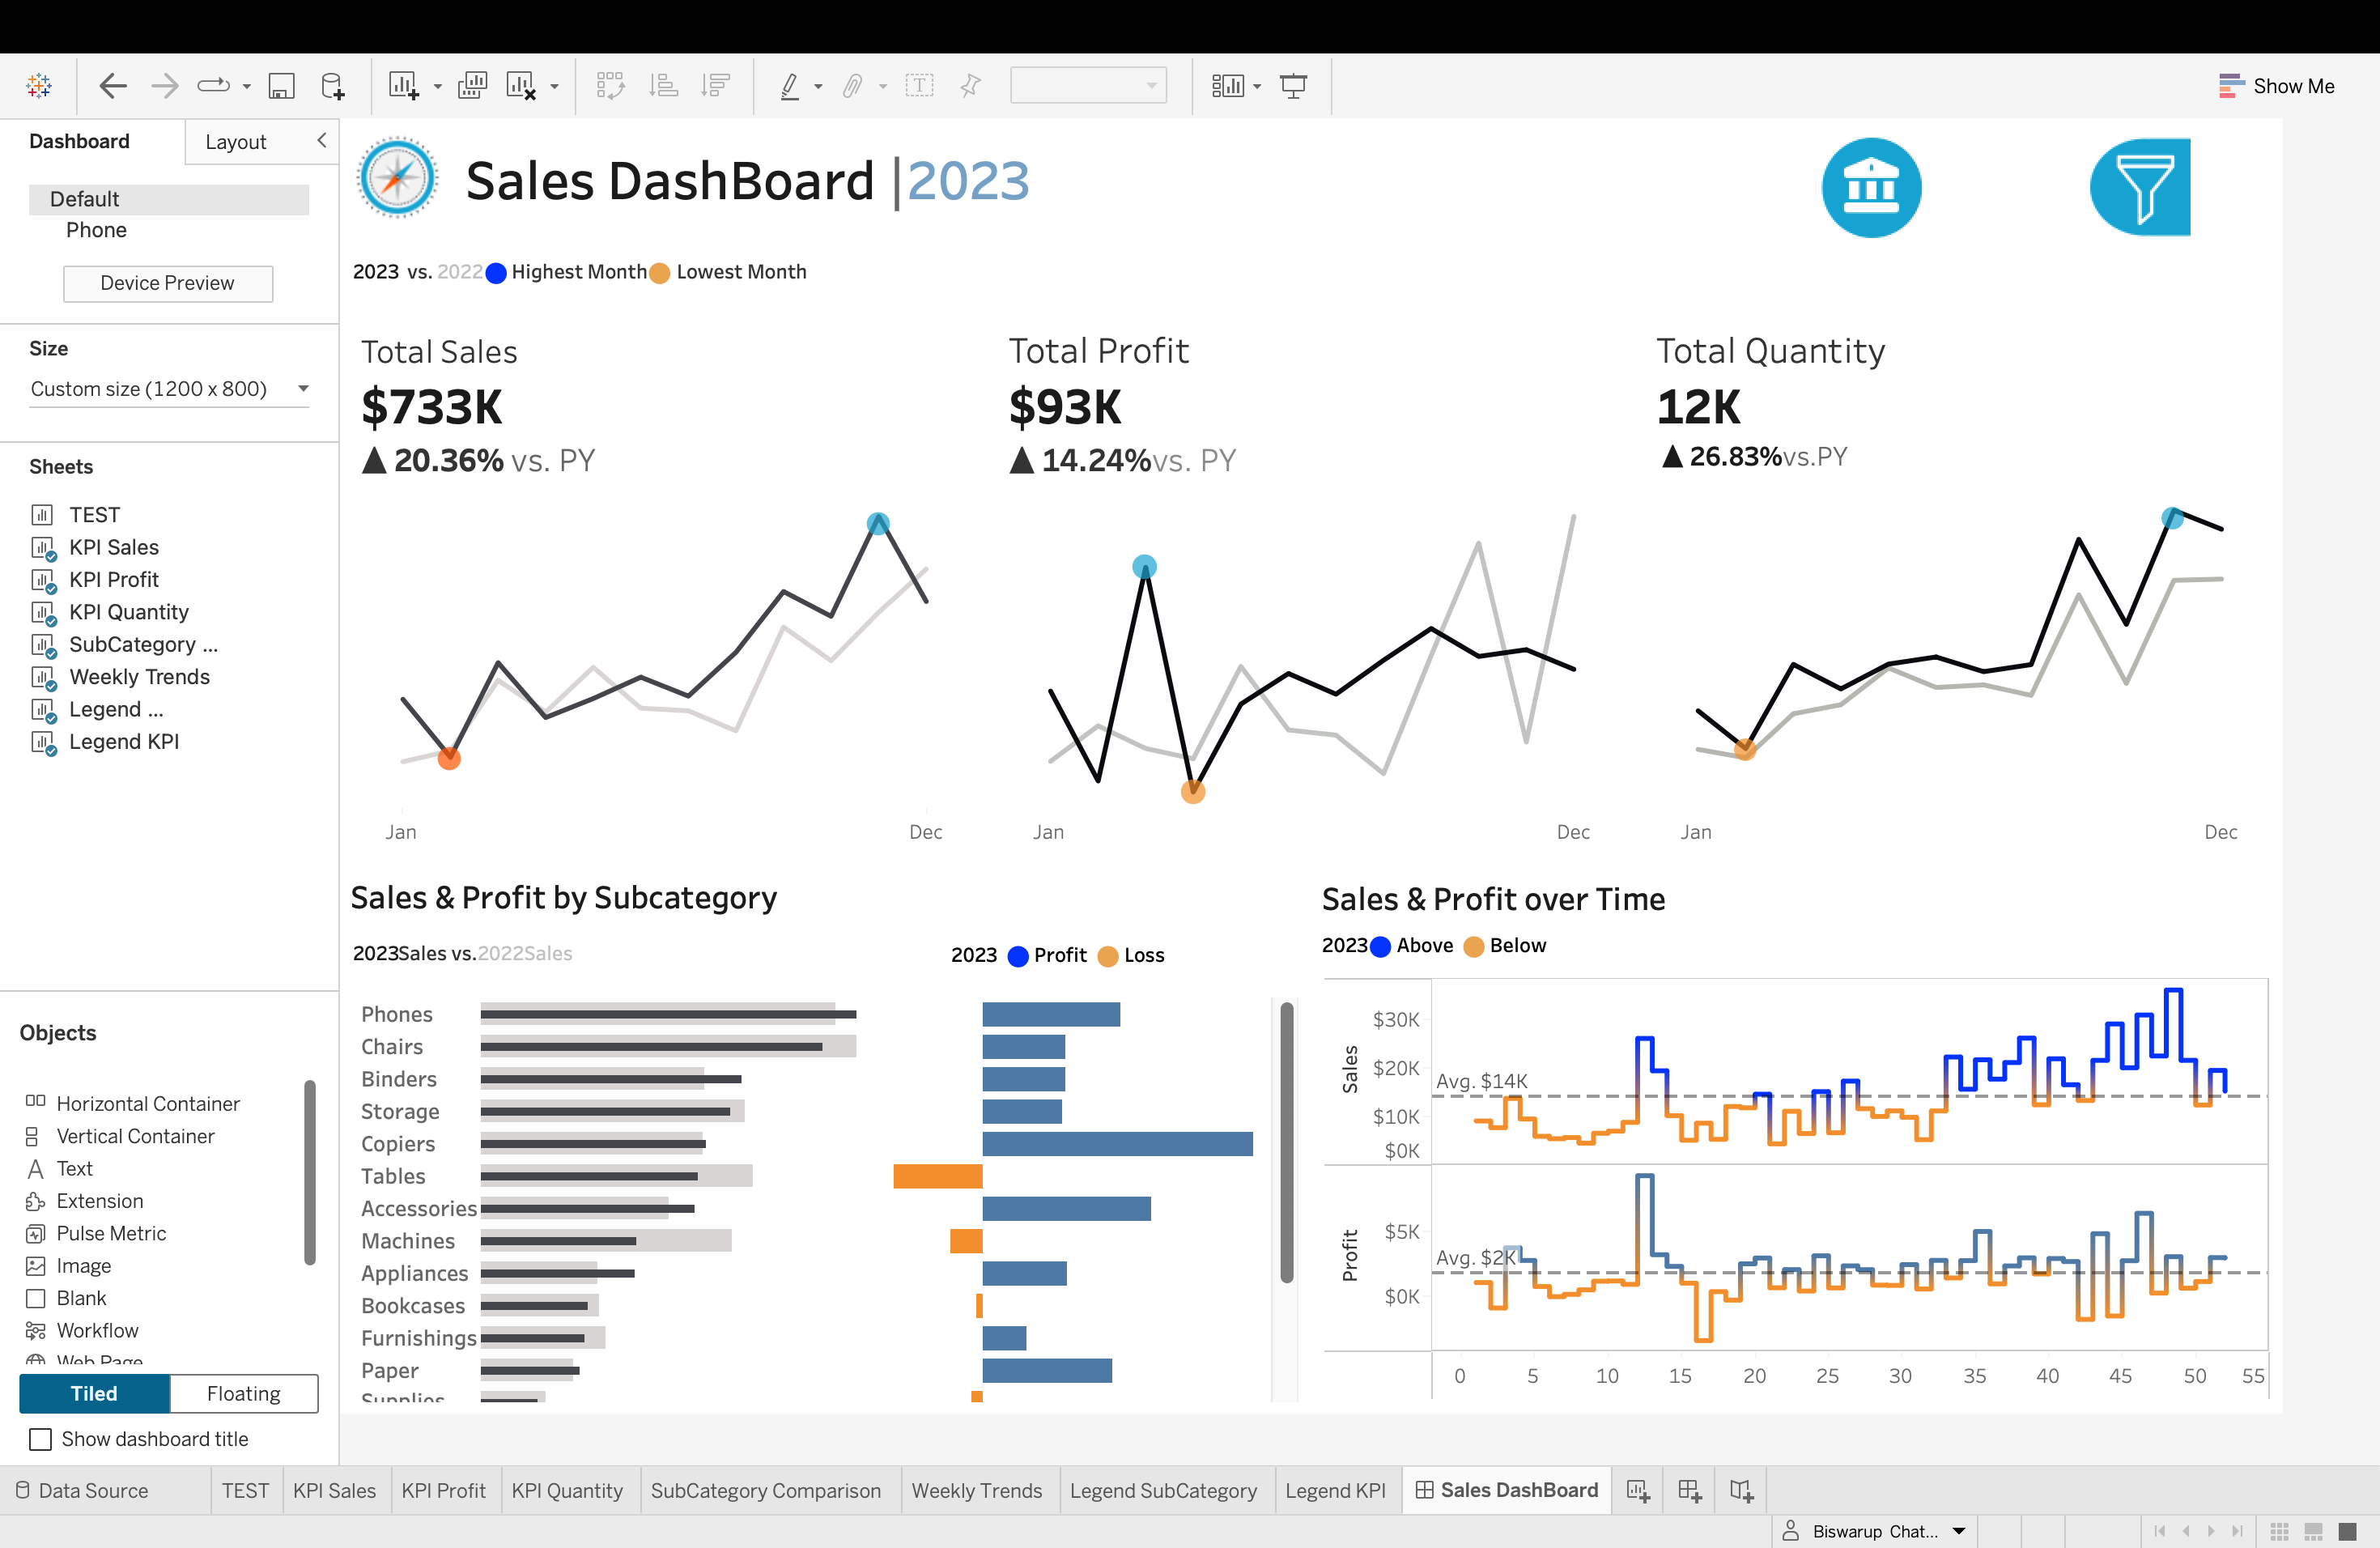

The dashboard page shown, as its layout file describes it:
{"tool":"tableau","page":{"name":"Sales DashBoard","canvas":[1200,800],"ordinal":0},"visuals":[{"type":"image","param":"Image/Icon - Logo.png","box":[0,0,71,74]},{"type":"text","box":[71,0,798,74]},{"type":"dashboard-object","box":[864,7,165,72]},{"type":"blank","box":[1019,7,170,77]},{"type":"dashboard-object","box":[1029,7,164,72]},{"type":"worksheet","title":"Legend KPI","mark":"Automatic","box":[0,74,1200,41]},{"type":"text","box":[1019,84,170,54]},{"type":"worksheet","title":"KPI Sales","mark":"Automatic","rows":["Calculation_5697590796865541"],"cols":["Order Date"],"box":[0,115,400,349]},{"type":"worksheet","title":"KPI Profit","mark":"Line","rows":["Min/Max Sales  (copy)_5697590829469711"],"cols":["Order Date"],"box":[400,115,400,349]},{"type":"worksheet","title":"KPI Quantity","mark":"Line","rows":["Min/Max Profit (copy)_5780191888982023"],"cols":["Order Date"],"box":[800,115,400,349]},{"type":"parameter","param":"[Parameters].[Parameter 1]","box":[1019,138,170,71]},{"type":"text","box":[1019,209,170,39]},{"type":"filter","title":"KPI Sales","param":"[federated.19scs4g1rom9k6111bvyw1vbxu41].[none:Category:nk]","box":[1019,248,170,52]},{"type":"filter","title":"KPI Sales","param":"[federated.19scs4g1rom9k6111bvyw1vbxu41].[none:Sub-Category:nk]","box":[1019,300,170,52]},{"type":"blank","box":[1019,352,170,32]},{"type":"text","box":[1019,384,170,25]},{"type":"filter","title":"KPI Sales","param":"[federated.19scs4g1rom9k6111bvyw1vbxu41].[none:Region:nk]","box":[1019,409,170,52]},{"type":"filter","title":"KPI Sales","param":"[federated.19scs4g1rom9k6111bvyw1vbxu41].[none:State:nk]","box":[1019,461,170,52]},{"type":"text","box":[0,464,600,32]},{"type":"text","box":[600,464,600,34]},{"type":"worksheet","title":"Legend SubCategory","mark":"Automatic","box":[0,496,371,40]},{"type":"text","box":[371,496,229,40]},{"type":"text","box":[600,498,600,25]},{"type":"filter","title":"KPI Sales","param":"[federated.19scs4g1rom9k6111bvyw1vbxu41].[none:City:nk]","box":[1019,513,170,52]},{"type":"worksheet","title":"Weekly Trends","mark":"Automatic","rows":["Calculation_5697590783131648","Calculation_5697590821842955"],"cols":["Order Date"],"box":[600,523,600,277]},{"type":"worksheet","title":"SubCategory Comparison","mark":"Bar","rows":["Sub-Category","Calculation_5780191929430027"],"cols":["CY_sales (copy)_5697590787551234","Calculation_5697590783131648","Calculation_5697590821842955"],"box":[0,536,600,264]}]}

Visuals, with their boxes on the page's 1200x800 design canvas (x1, y1, x2, y2). These are canvas units, not pixel positions in the 2380x1548 screenshot, which may show the page scaled, cropped or inside an application window:
image: locate(0, 0, 71, 74)
text: locate(71, 0, 869, 74)
dashboard-object: locate(864, 7, 1029, 79)
blank: locate(1019, 7, 1189, 84)
dashboard-object: locate(1029, 7, 1193, 79)
"Legend KPI" worksheet: locate(0, 74, 1200, 115)
text: locate(1019, 84, 1189, 138)
"KPI Sales" worksheet: locate(0, 115, 400, 464)
"KPI Profit" worksheet (Line marks): locate(400, 115, 800, 464)
"KPI Quantity" worksheet (Line marks): locate(800, 115, 1200, 464)
parameter: locate(1019, 138, 1189, 209)
text: locate(1019, 209, 1189, 248)
"KPI Sales" filter: locate(1019, 248, 1189, 300)
"KPI Sales" filter: locate(1019, 300, 1189, 352)
blank: locate(1019, 352, 1189, 384)
text: locate(1019, 384, 1189, 409)
"KPI Sales" filter: locate(1019, 409, 1189, 461)
"KPI Sales" filter: locate(1019, 461, 1189, 513)
text: locate(0, 464, 600, 496)
text: locate(600, 464, 1200, 498)
"Legend SubCategory" worksheet: locate(0, 496, 371, 536)
text: locate(371, 496, 600, 536)
text: locate(600, 498, 1200, 523)
"KPI Sales" filter: locate(1019, 513, 1189, 565)
"Weekly Trends" worksheet: locate(600, 523, 1200, 800)
"SubCategory Comparison" worksheet (Bar marks): locate(0, 536, 600, 800)
